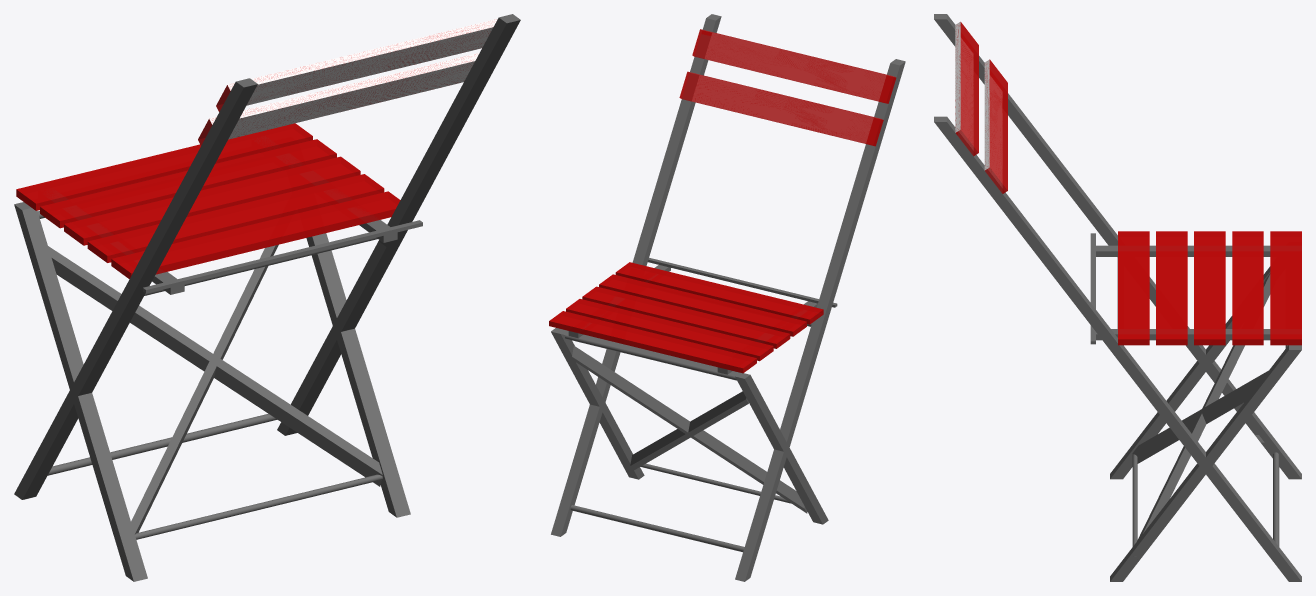
3 renders of one model, left to right at view 1: azimuth 30°, elevation 25°; view 2: azimuth 150°, elevation 25°; view 3: azimuth 270°, elevation 25°, orthographic. The views are drawn at different scales.
Visible parts, largest first — view 1: mesh16_mesh16-geometry, mesh2_mesh2-geometry, mesh4_mesh4-geometry, mesh5_mesh5-geometry, mesh6_mesh6-geometry, mesh10_mesh10-geometry, mesh7_mesh7-geometry, mesh12_mesh12-geometry, mesh13_mesh13-geometry, mesh14_mesh14-geometry, mesh9_mesh9-geometry; view 2: mesh16_mesh16-geometry, mesh5_mesh5-geometry, mesh4_mesh4-geometry, mesh10_mesh10-geometry, mesh7_mesh7-geometry, mesh2_mesh2-geometry, mesh9_mesh9-geometry, mesh13_mesh13-geometry, mesh6_mesh6-geometry, mesh12_mesh12-geometry, mesh14_mesh14-geometry; view 3: mesh4_mesh4-geometry, mesh16_mesh16-geometry, mesh5_mesh5-geometry, mesh2_mesh2-geometry, mesh6_mesh6-geometry, mesh9_mesh9-geometry, mesh12_mesh12-geometry, mesh13_mesh13-geometry, mesh14_mesh14-geometry, mesh10_mesh10-geometry, mesh7_mesh7-geometry.
Boxes of the visible parts, bbox=[...] form: mesh16_mesh16-geometry: bbox=[14, 202, 422, 581]; mesh2_mesh2-geometry: bbox=[48, 244, 382, 534]; mesh4_mesh4-geometry: bbox=[47, 17, 520, 475]; mesh5_mesh5-geometry: bbox=[14, 82, 257, 499]; mesh6_mesh6-geometry: bbox=[111, 191, 400, 278]; mesh10_mesh10-geometry: bbox=[216, 18, 497, 111]; mesh7_mesh7-geometry: bbox=[198, 52, 479, 145]; mesh12_mesh12-geometry: bbox=[87, 174, 384, 262]; mesh13_mesh13-geometry: bbox=[64, 156, 360, 245]; mesh14_mesh14-geometry: bbox=[40, 139, 336, 228]; mesh9_mesh9-geometry: bbox=[16, 123, 312, 210]; mesh16_mesh16-geometry: bbox=[551, 257, 837, 524]; mesh5_mesh5-geometry: bbox=[735, 62, 905, 581]; mesh4_mesh4-geometry: bbox=[551, 16, 744, 552]; mesh10_mesh10-geometry: bbox=[692, 29, 896, 103]; mesh7_mesh7-geometry: bbox=[679, 71, 883, 146]; mesh2_mesh2-geometry: bbox=[572, 346, 807, 513]; mesh9_mesh9-geometry: bbox=[549, 311, 756, 373]; mesh13_mesh13-geometry: bbox=[582, 286, 790, 348]; mesh6_mesh6-geometry: bbox=[615, 262, 823, 324]; mesh12_mesh12-geometry: bbox=[599, 274, 806, 336]; mesh14_mesh14-geometry: bbox=[566, 299, 773, 361]; mesh4_mesh4-geometry: bbox=[934, 117, 1301, 581]; mesh16_mesh16-geometry: bbox=[1090, 233, 1301, 581]; mesh5_mesh5-geometry: bbox=[934, 14, 1301, 478]; mesh2_mesh2-geometry: bbox=[1132, 273, 1270, 540]; mesh6_mesh6-geometry: bbox=[1118, 231, 1149, 345]; mesh9_mesh9-geometry: bbox=[1270, 231, 1301, 345]; mesh12_mesh12-geometry: bbox=[1156, 231, 1187, 345]; mesh13_mesh13-geometry: bbox=[1194, 231, 1225, 345]; mesh14_mesh14-geometry: bbox=[1232, 231, 1263, 345]; mesh10_mesh10-geometry: bbox=[955, 21, 978, 156]; mesh7_mesh7-geometry: bbox=[984, 59, 1007, 193].
Size of the model in its own units: 0.38 by 0.7477 by 0.5419.
